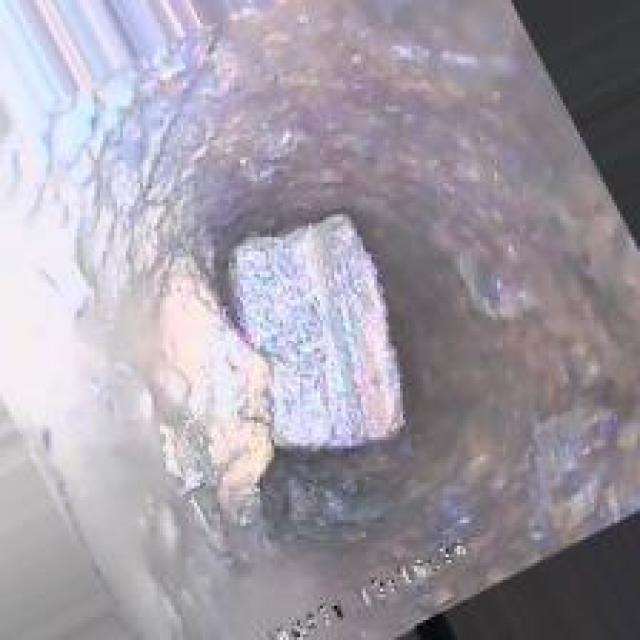stone: (223, 214, 428, 466)
